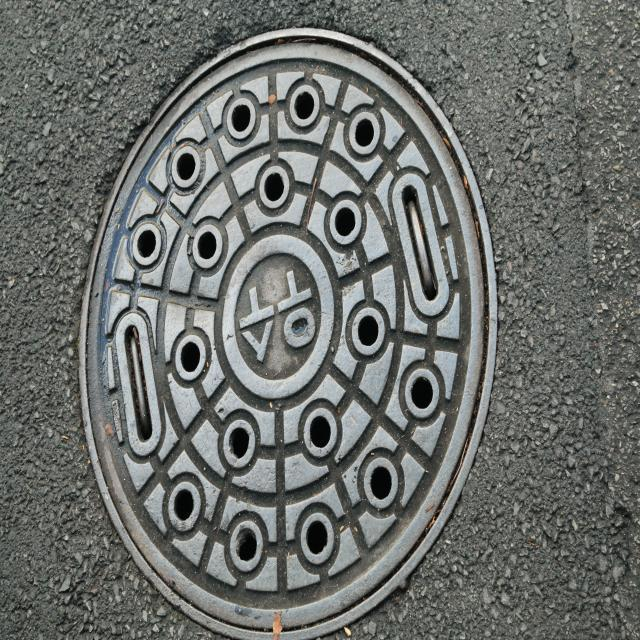manhole: (81, 29, 496, 640)
